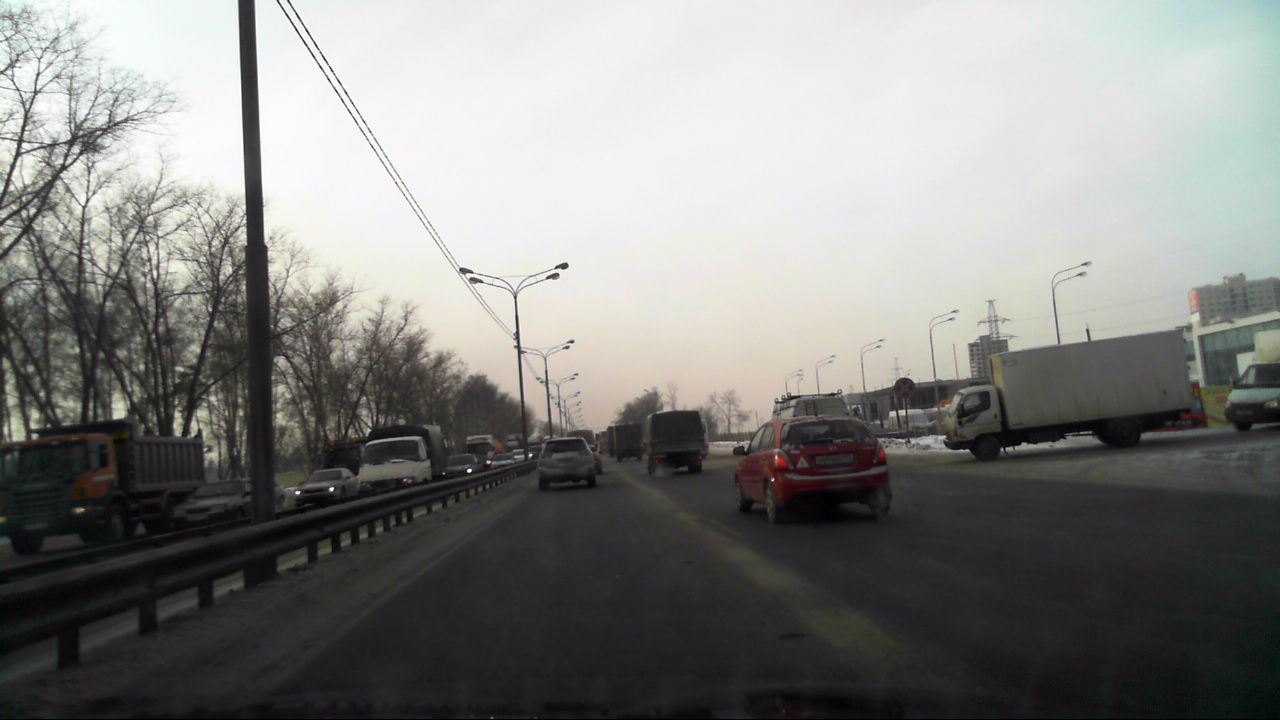No Parking: (893, 377, 915, 399)
